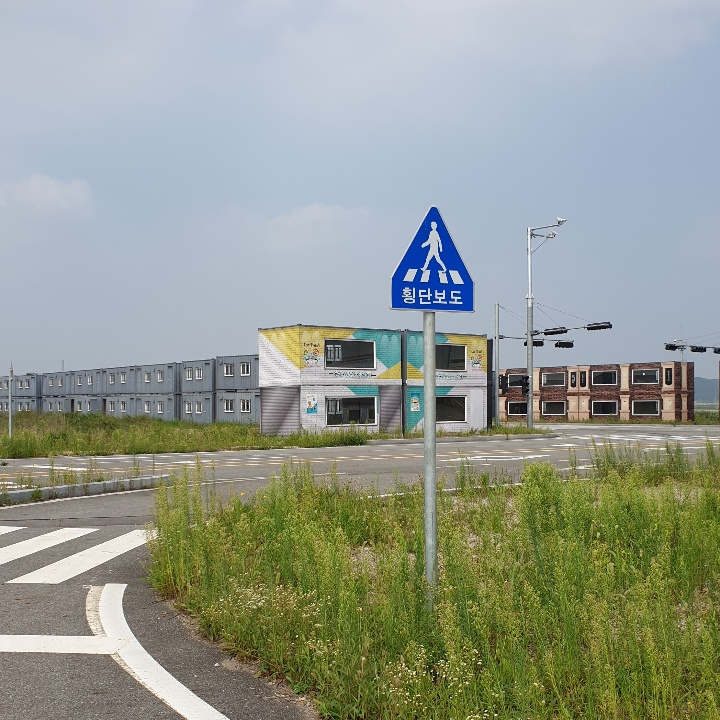cross: (413, 212, 453, 279)
